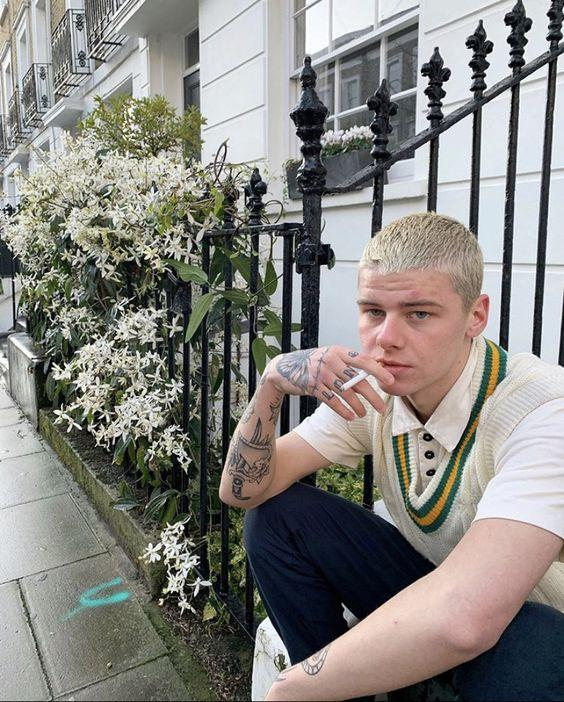cigarette: (340, 361, 385, 392)
